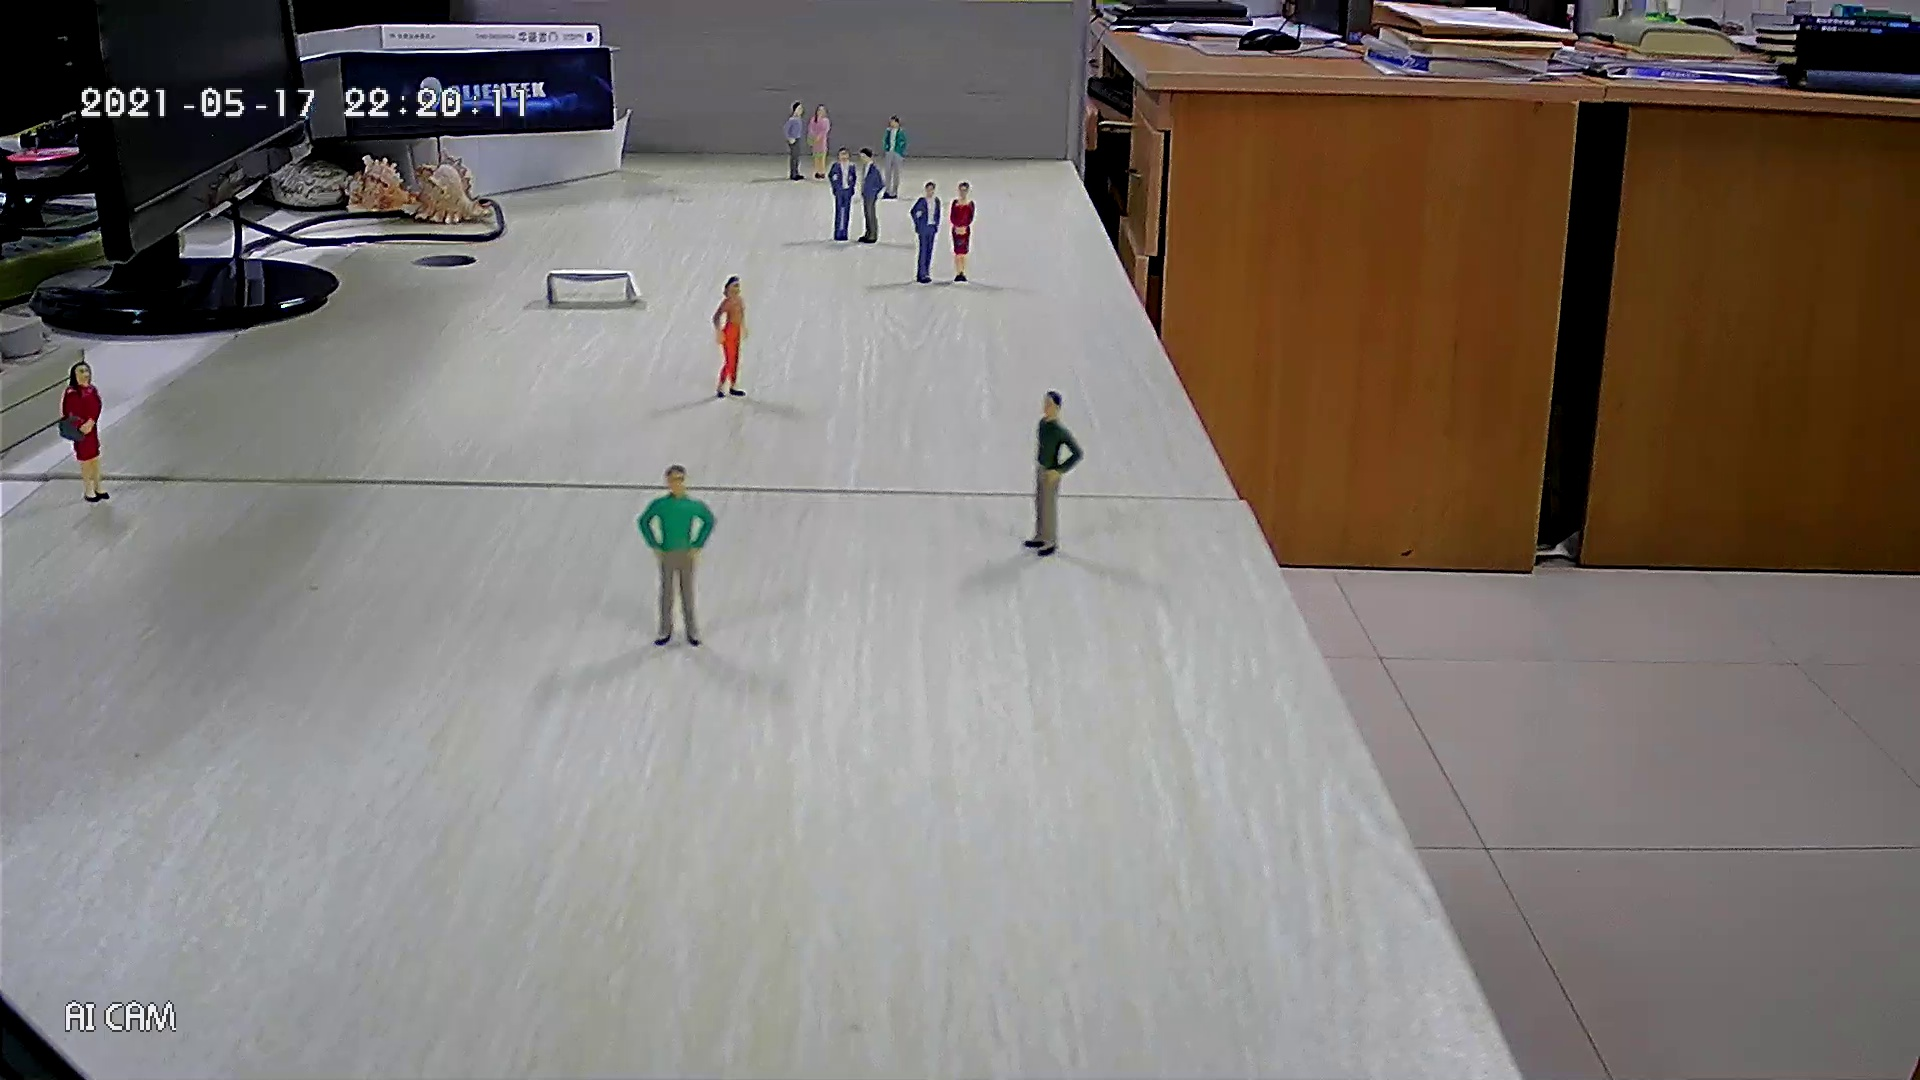person: (635, 464, 721, 649), (1019, 388, 1084, 559), (58, 360, 112, 503), (710, 273, 749, 400), (909, 180, 942, 285), (947, 180, 977, 283), (827, 147, 858, 243), (857, 146, 885, 245), (880, 113, 907, 201), (802, 102, 831, 180), (783, 100, 806, 182)
